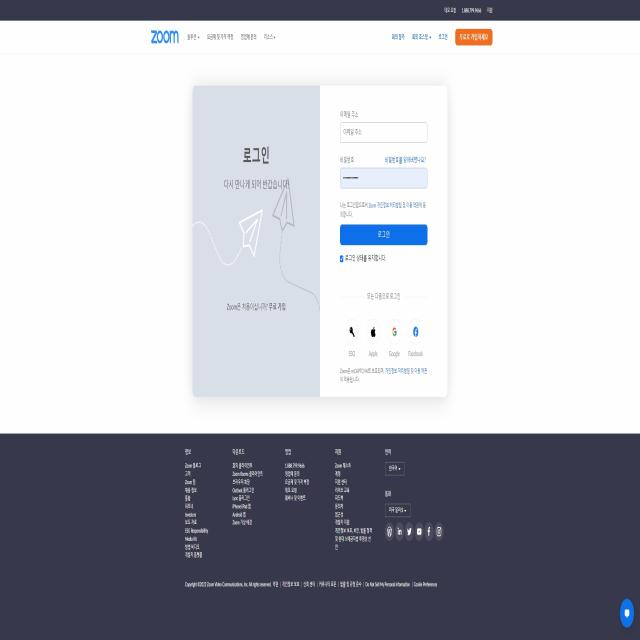menu-bar: (388, 26, 494, 50)
tab-bar: (148, 24, 278, 51)
